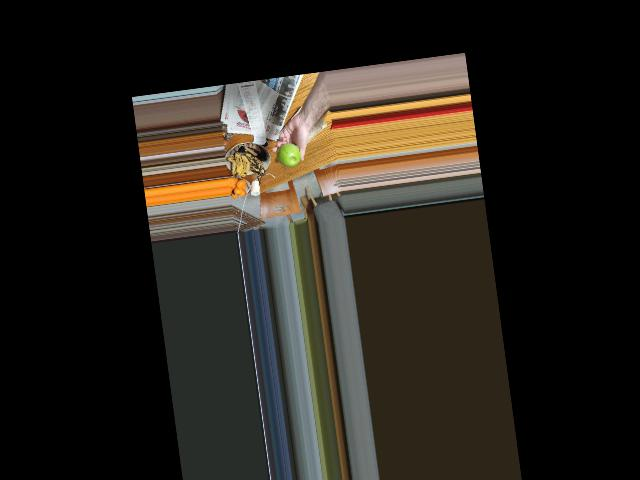apple: (275, 142, 303, 170)
